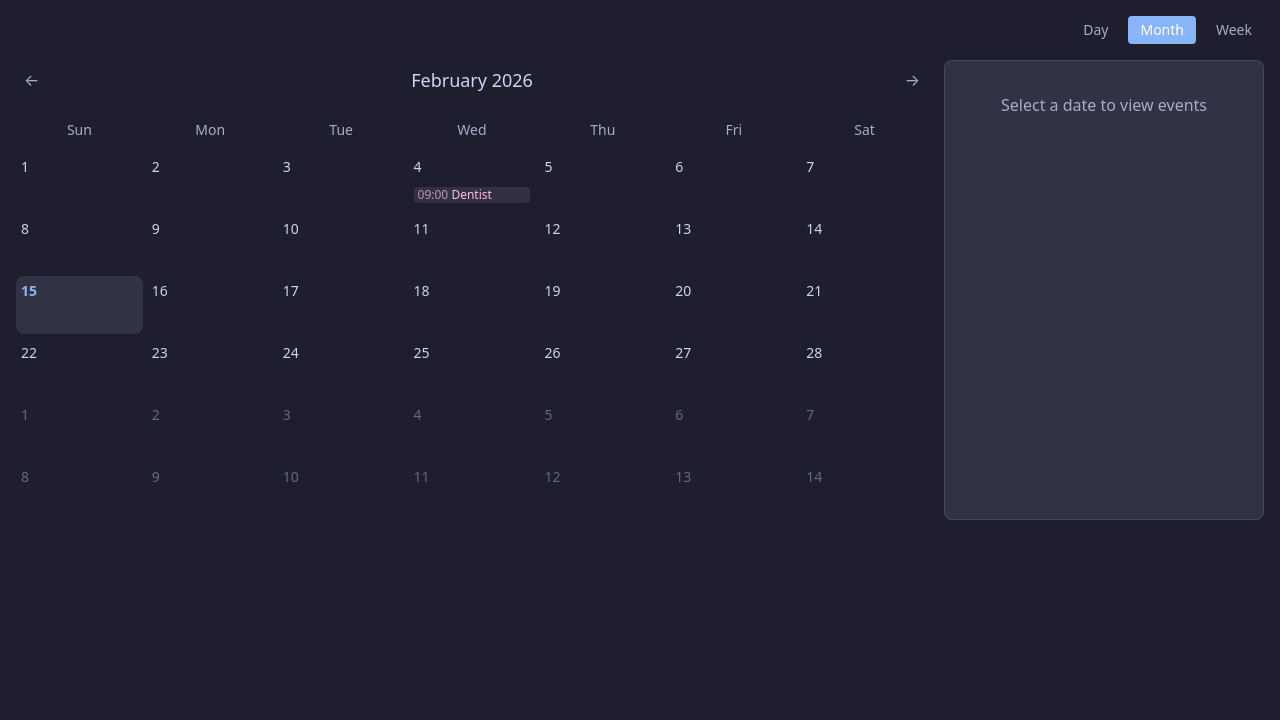
manual category tags › pre-checks whatever categories the event already carries
Click the button "09:00 Dentist" at (472, 195), box [414,187,530,203]
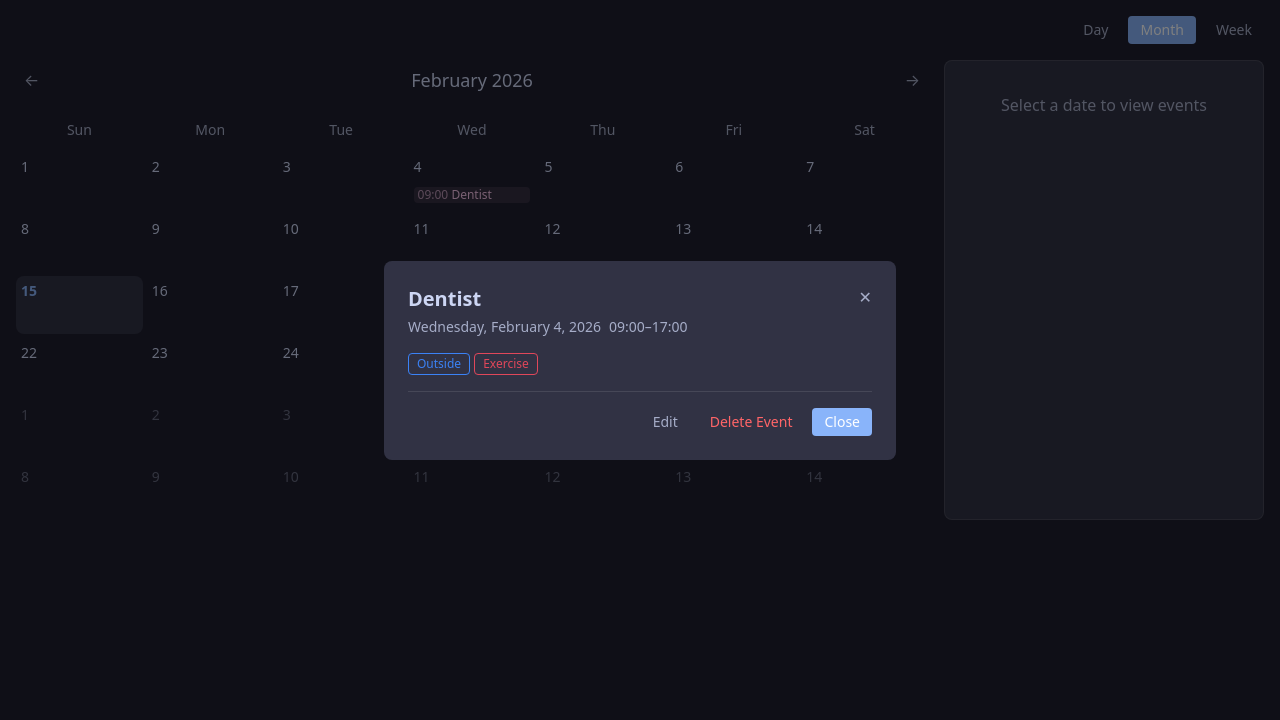
Click the button "Edit" at (665, 422), box [641,408,690,436]
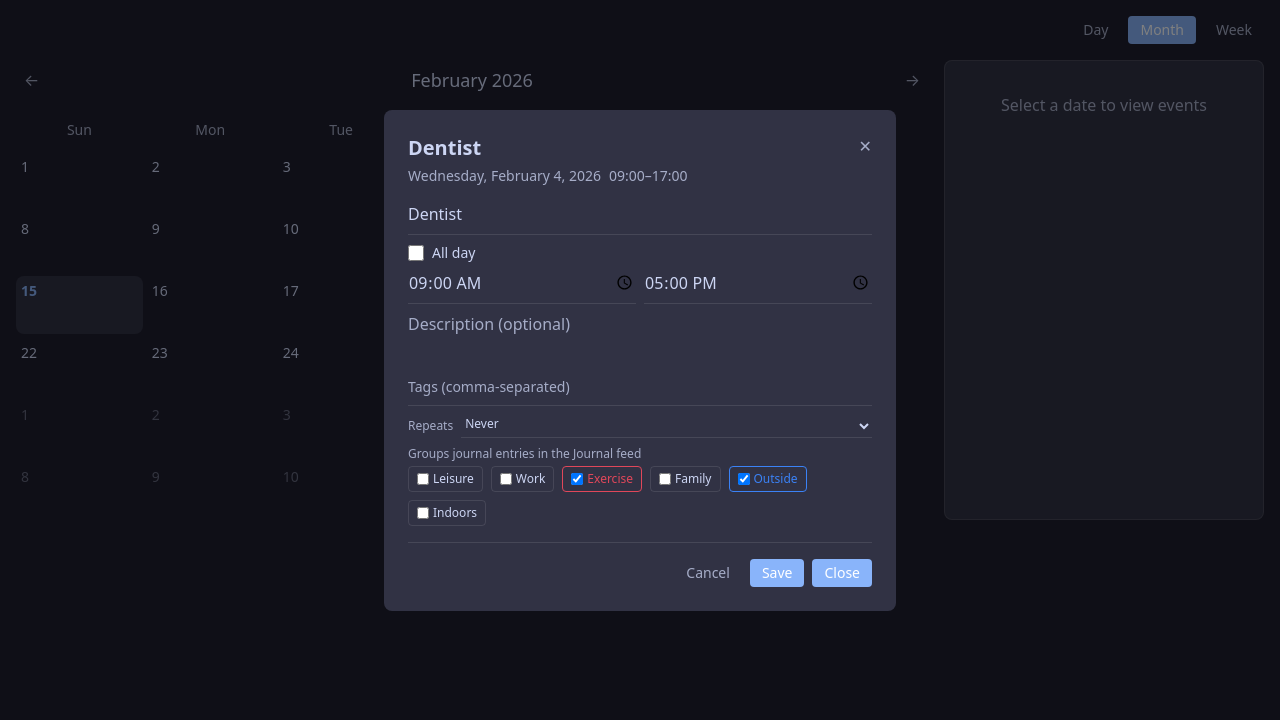
Expected: the checkbox labelled "Outside" is checked, [738,472,750,484]
Expected: the checkbox labelled "Exercise" is checked, [571,472,583,484]
Expected: the checkbox labelled "Work" is not checked, [500,472,512,484]
